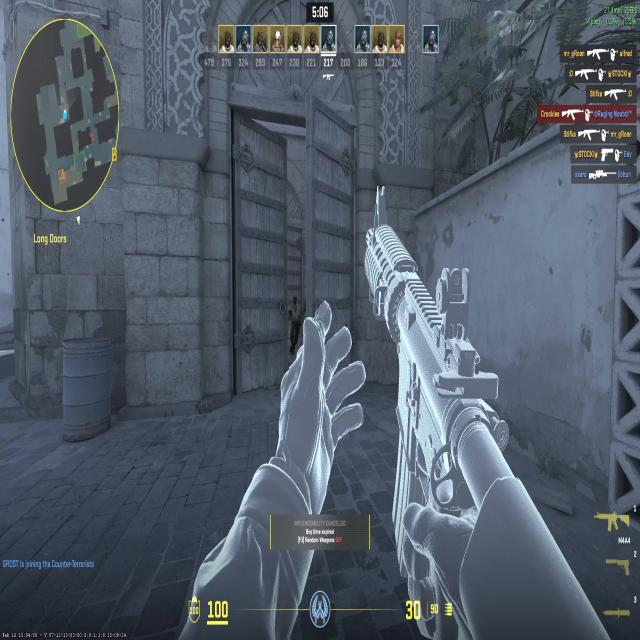player: (286, 292, 302, 355)
